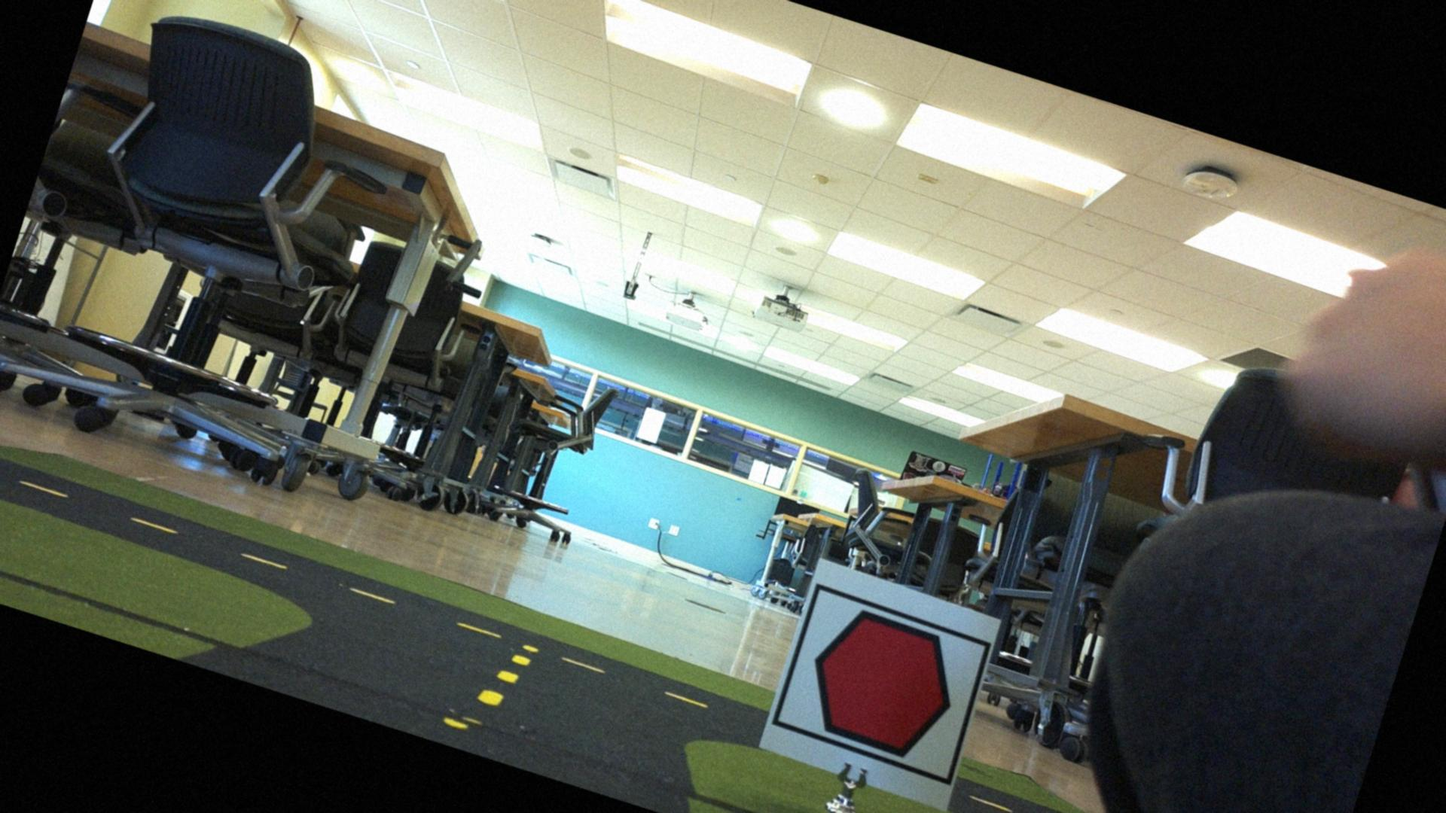stop: (779, 589, 982, 778)
yellowline: (442, 638, 532, 747)
